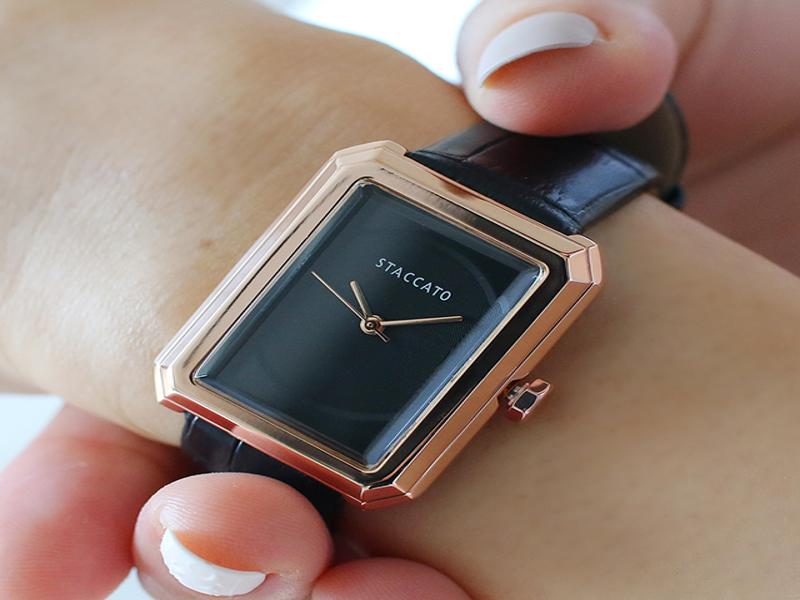watch: (157, 91, 692, 505)
